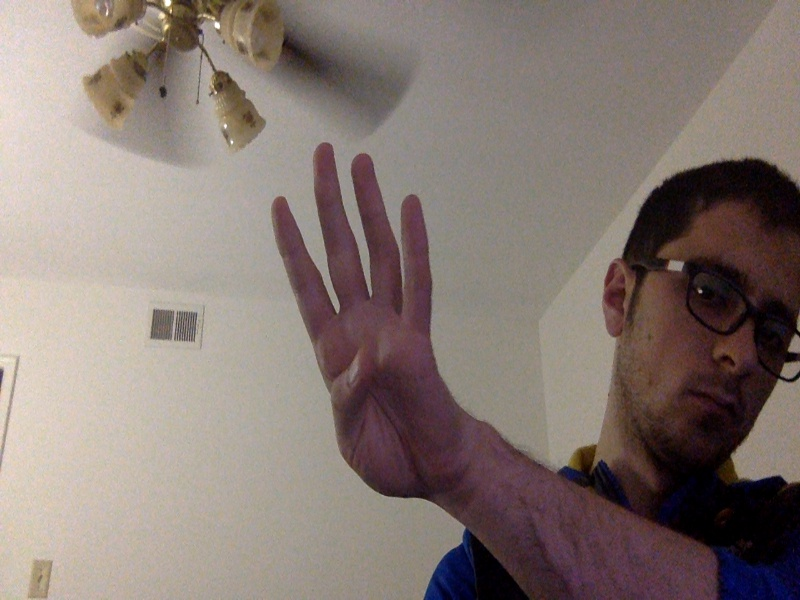4-hand: (269, 140, 436, 510)
